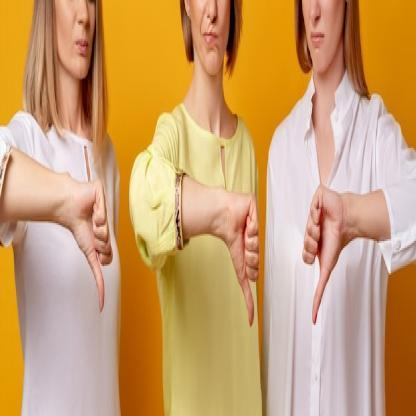thumb_down: (300, 175, 342, 330), (76, 170, 114, 314), (226, 180, 261, 330)
